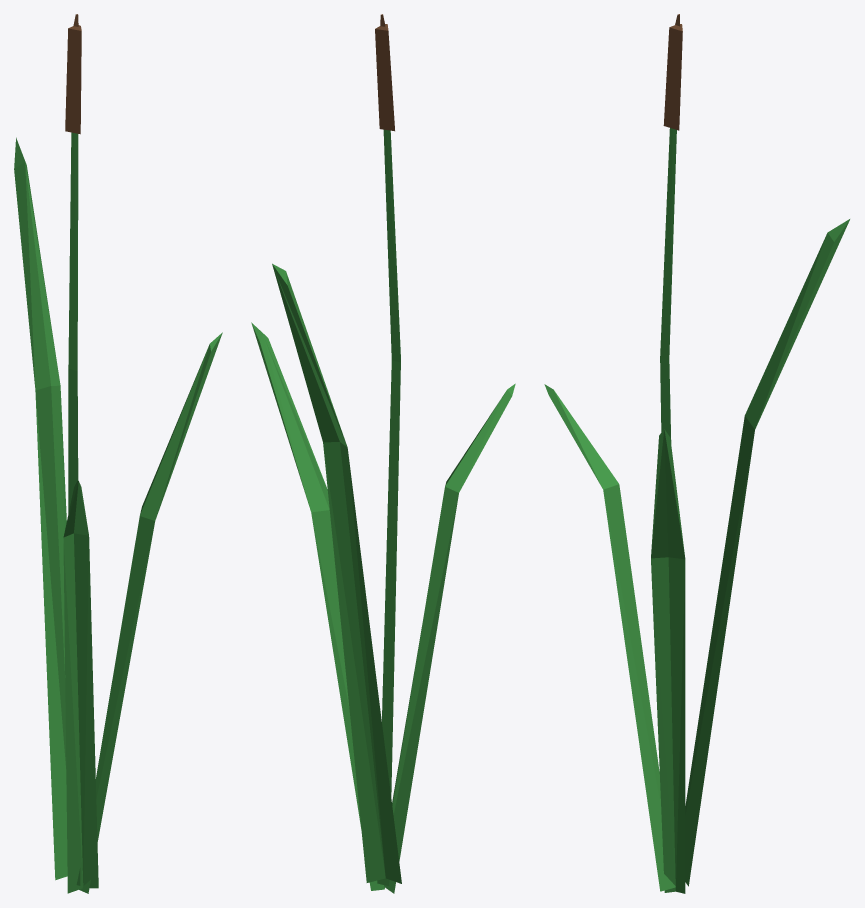
Rendered from reed2.obj.
The picture shows the model from 3 angles, left to right: view 1: azimuth 30°, elevation 25°; view 2: azimuth 150°, elevation 25°; view 3: azimuth 270°, elevation 25°; orthographic projection.
Size of the model in its own units: 1.69 by 6.9 by 2.18.
